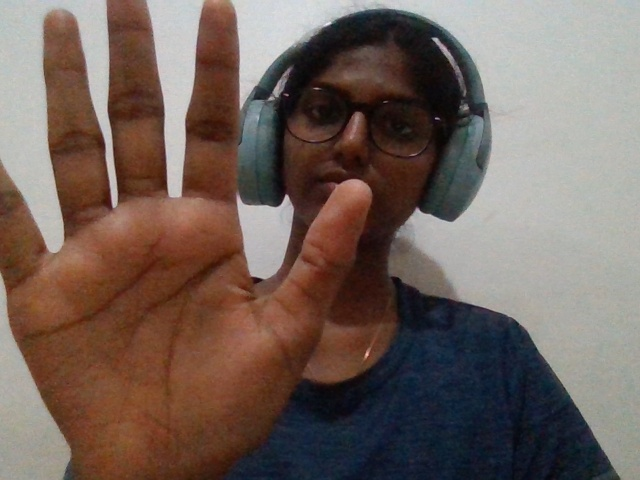Bye: (1, 1, 391, 480)
